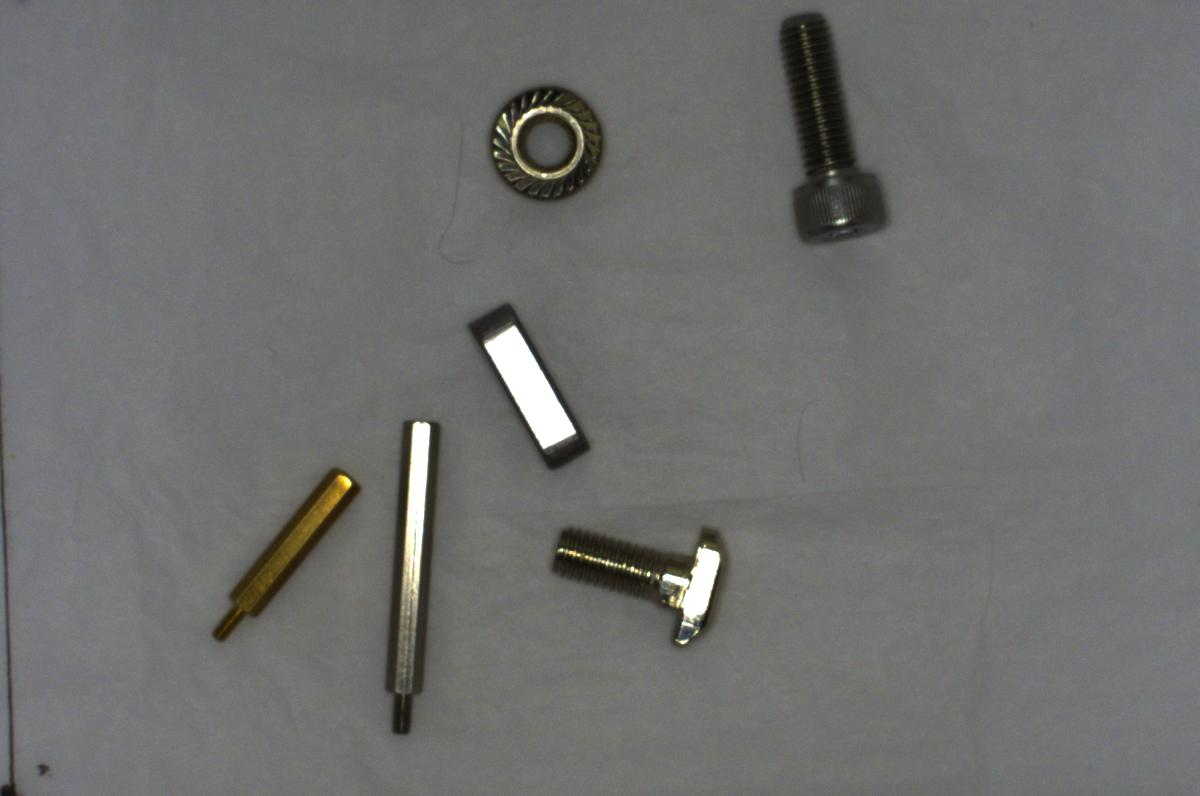Flange nut: (482, 80, 608, 205)
Hexagon pillar: (206, 461, 359, 642)
Hexagon screw: (765, 9, 897, 247)
Hexagonal steel column: (379, 409, 445, 735)
Keybar: (466, 298, 597, 479)
T-shaped screw: (538, 510, 733, 653)
